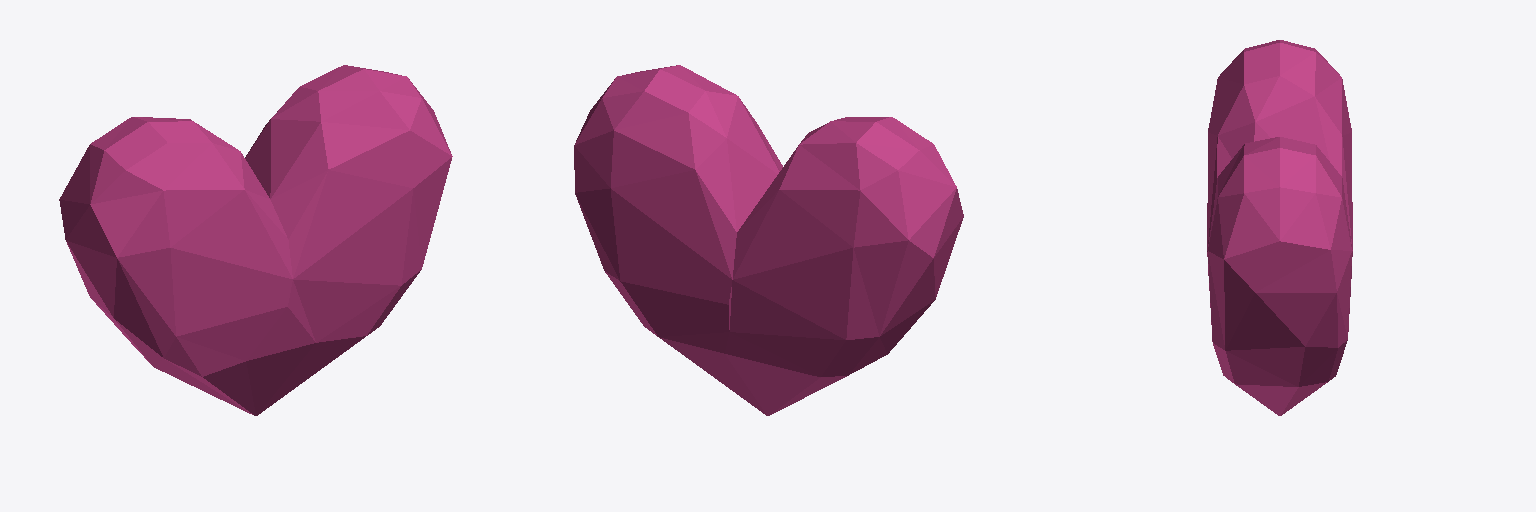
3 renders of one model, left to right at view 1: azimuth 30°, elevation 25°; view 2: azimuth 150°, elevation 25°; view 3: azimuth 270°, elevation 25°, orthographic.
Parts seen in each view (by area): view 1: 立方体; view 2: 立方体; view 3: 立方体.
Part boxes in pixels (x1,y1,x2,y2): 立方体: (59,65,452,415); 立方体: (574,65,963,415); 立方体: (1207,40,1352,415).
Bounding box in the file's own units: 3.51 × 3.03 × 1.24.
1 materials, 1 textured.